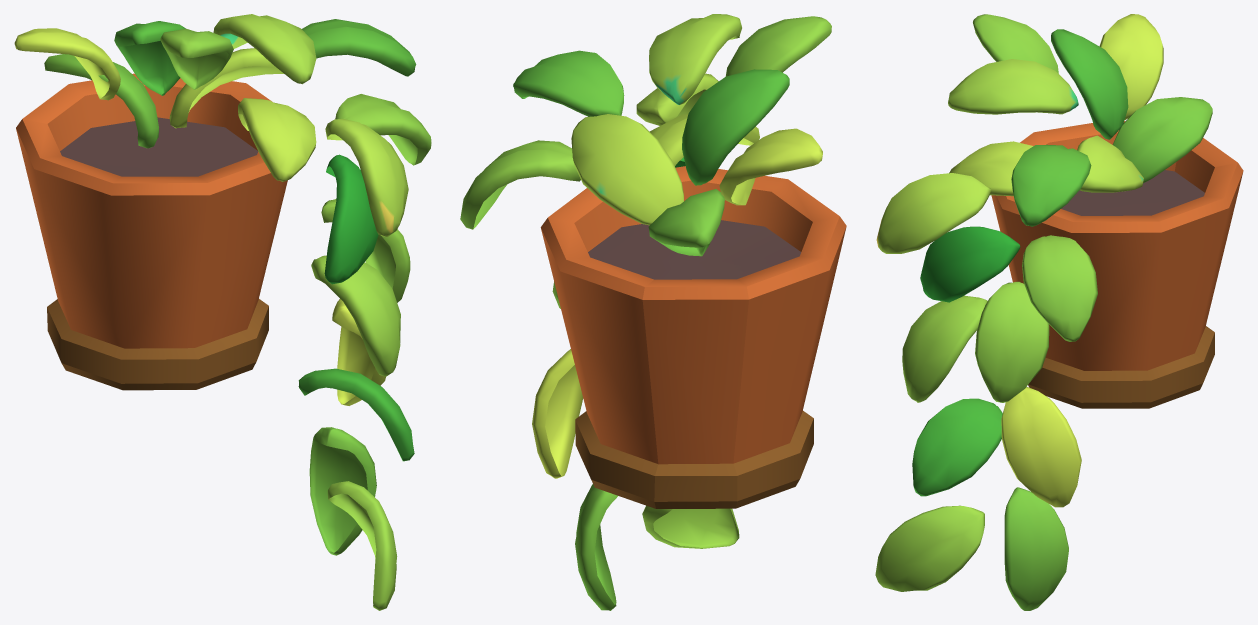
File: plant1.fbx
3 views of the same model, side by side, from view 1: azimuth 30°, elevation 25°; view 2: azimuth 150°, elevation 25°; view 3: azimuth 270°, elevation 25° (orthographic). The views are drawn at different scales.
Parts seen in each view (by area): view 1: plant1; view 2: plant1; view 3: plant1.
Part boxes in pixels (bbox=[...]): plant1: bbox=[14, 14, 431, 610]; plant1: bbox=[460, 14, 846, 610]; plant1: bbox=[875, 14, 1243, 610].
Size of the model in its own units: 2.65 by 3.93 by 2.53.
